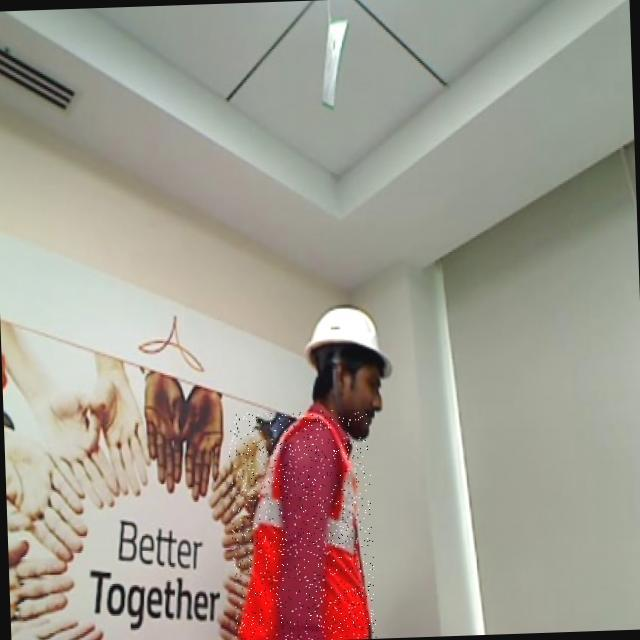helmet: (305, 299, 399, 389)
vest: (227, 408, 376, 640)
